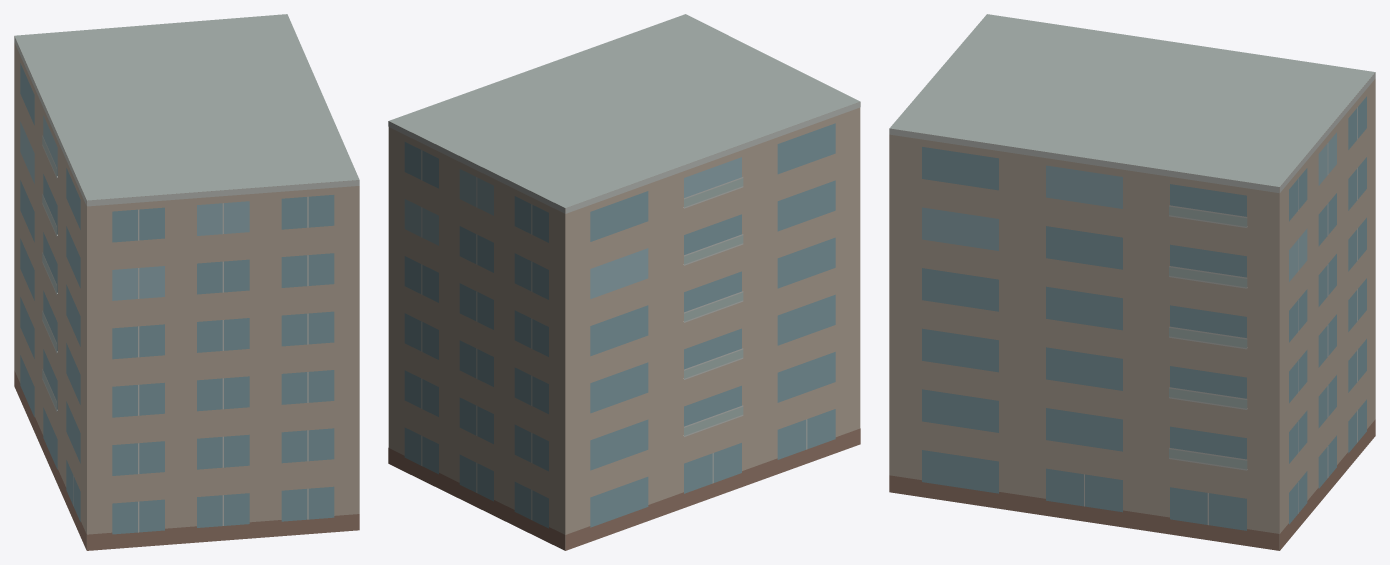
File: survey-upis-32894337.glb
3 renders of one model, left to right at view 1: azimuth 30°, elevation 25°; view 2: azimuth 150°, elevation 25°; view 3: azimuth 270°, elevation 25°, orthographic. The views are drawn at different scales.
Visible parts, largest first — view 1: survey-upis-32894337.tmp; view 2: survey-upis-32894337.tmp; view 3: survey-upis-32894337.tmp.
Part boxes in pixels (x1=…): survey-upis-32894337.tmp: x1=14, y1=14, x2=359, y2=550; survey-upis-32894337.tmp: x1=388, y1=14, x2=860, y2=550; survey-upis-32894337.tmp: x1=889, y1=14, x2=1375, y2=550.
Size of the model in its own units: 14.65 by 14.35 by 17.39.
